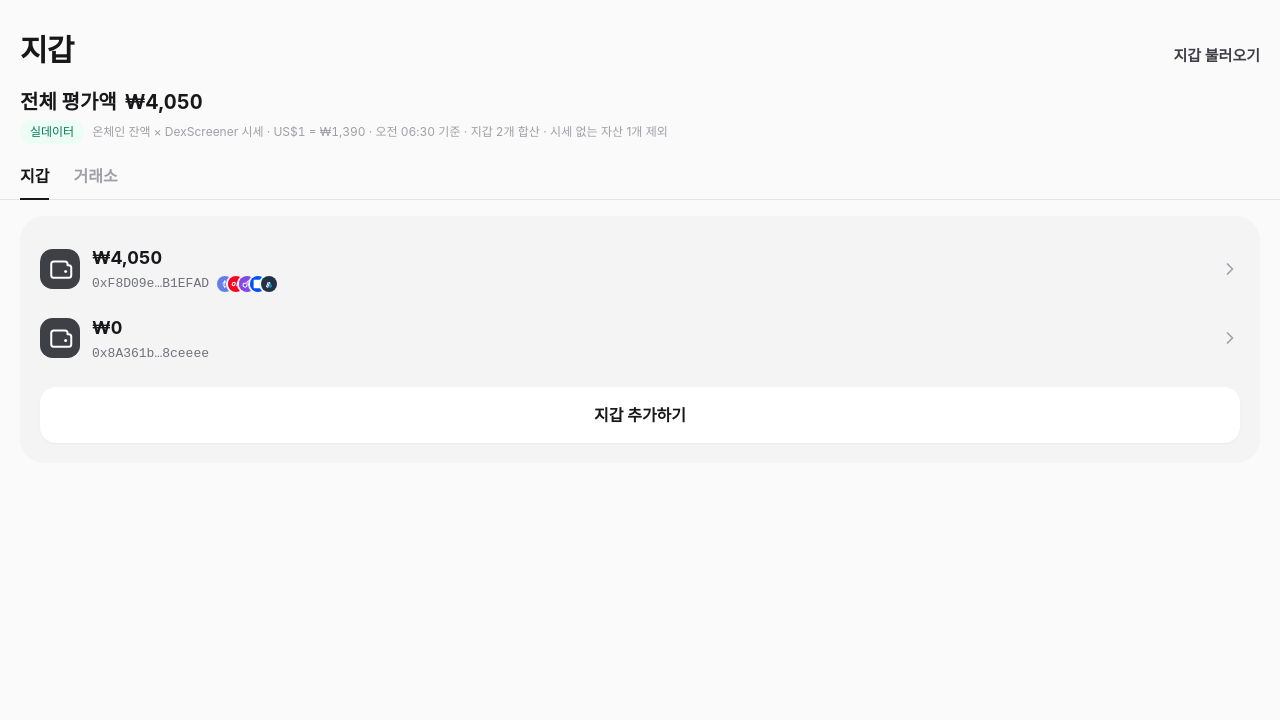
Test case: wallets list (지갑 탭) › opens the 지갑 불러오기 sheet from the top action and from the group button, with browser / address entries
Expected: the link "브라우저 지갑 연결" is not shown
Click the button "지갑 불러오기". click: point(1217, 56)
box: [1173, 45, 1260, 68]
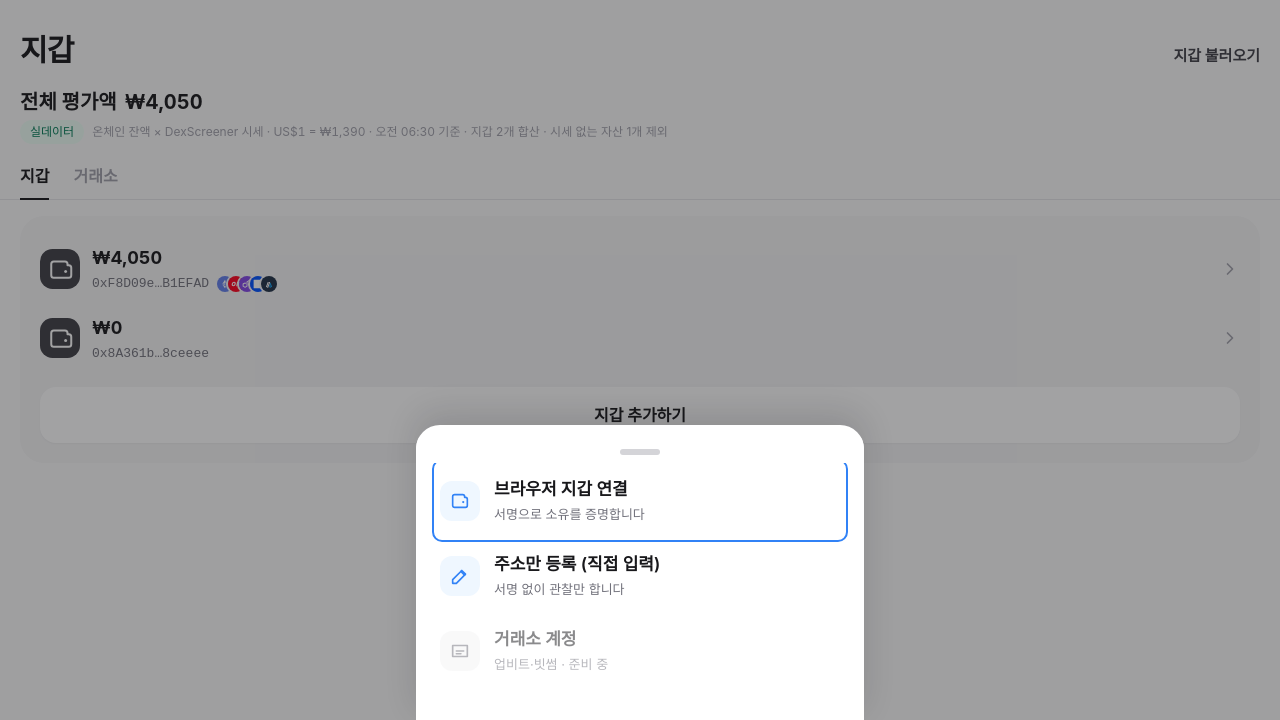
Result: the text "거래소 계정" is shown at [494, 629, 576, 649]
Press Escape
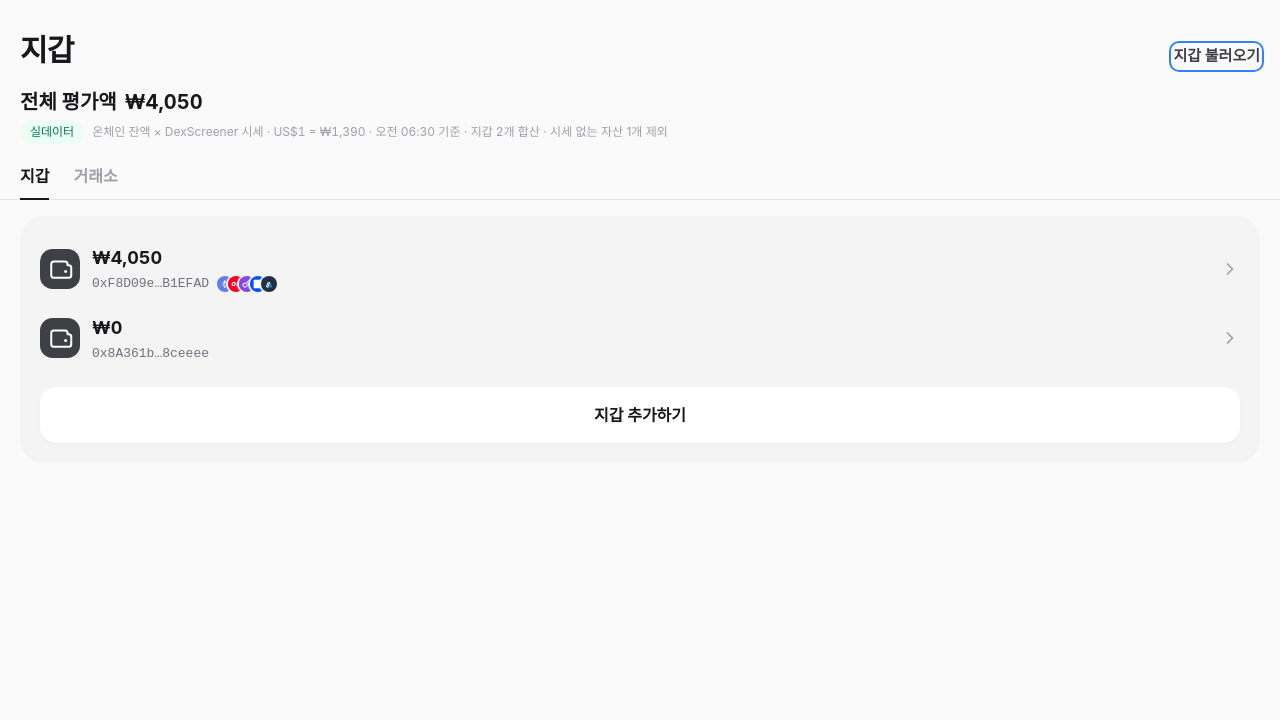
Click the button "지갑 추가하기". click: point(640, 415)
box: [40, 387, 1240, 443]
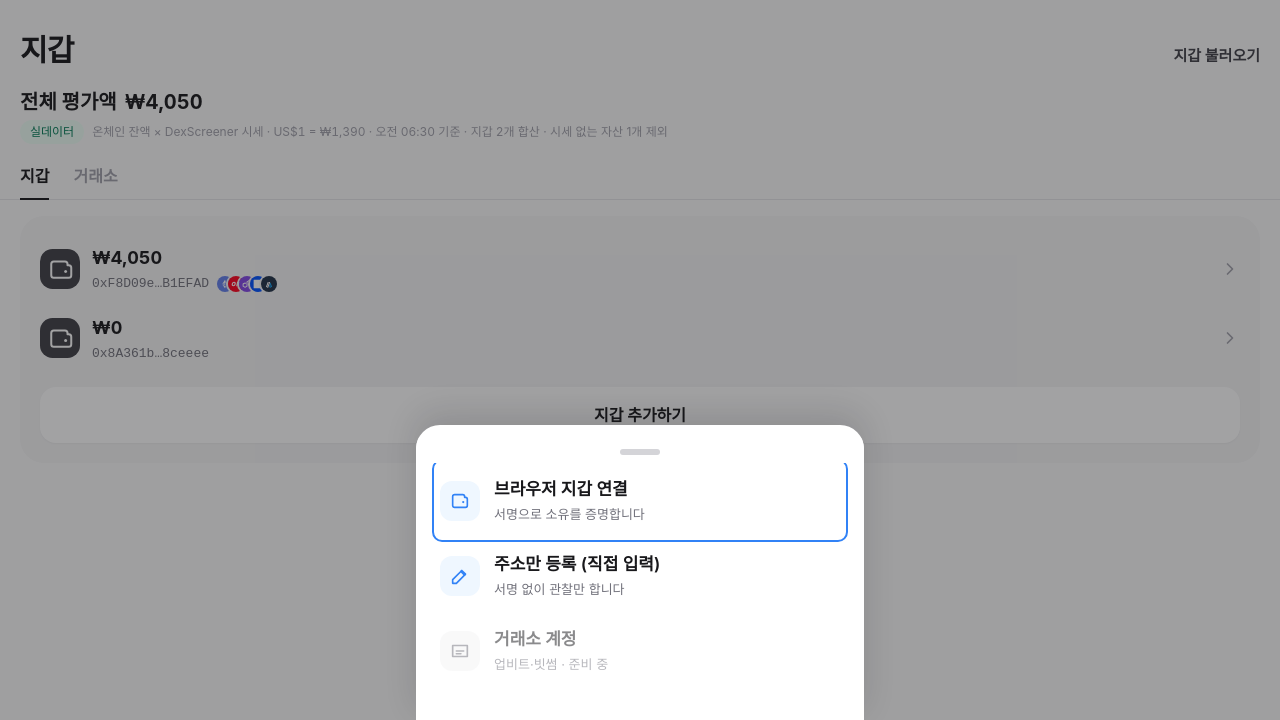
Result: the link "브라우저 지갑 연결 서명으로 소유를 증명합니다" is shown at [440, 479, 645, 522]
